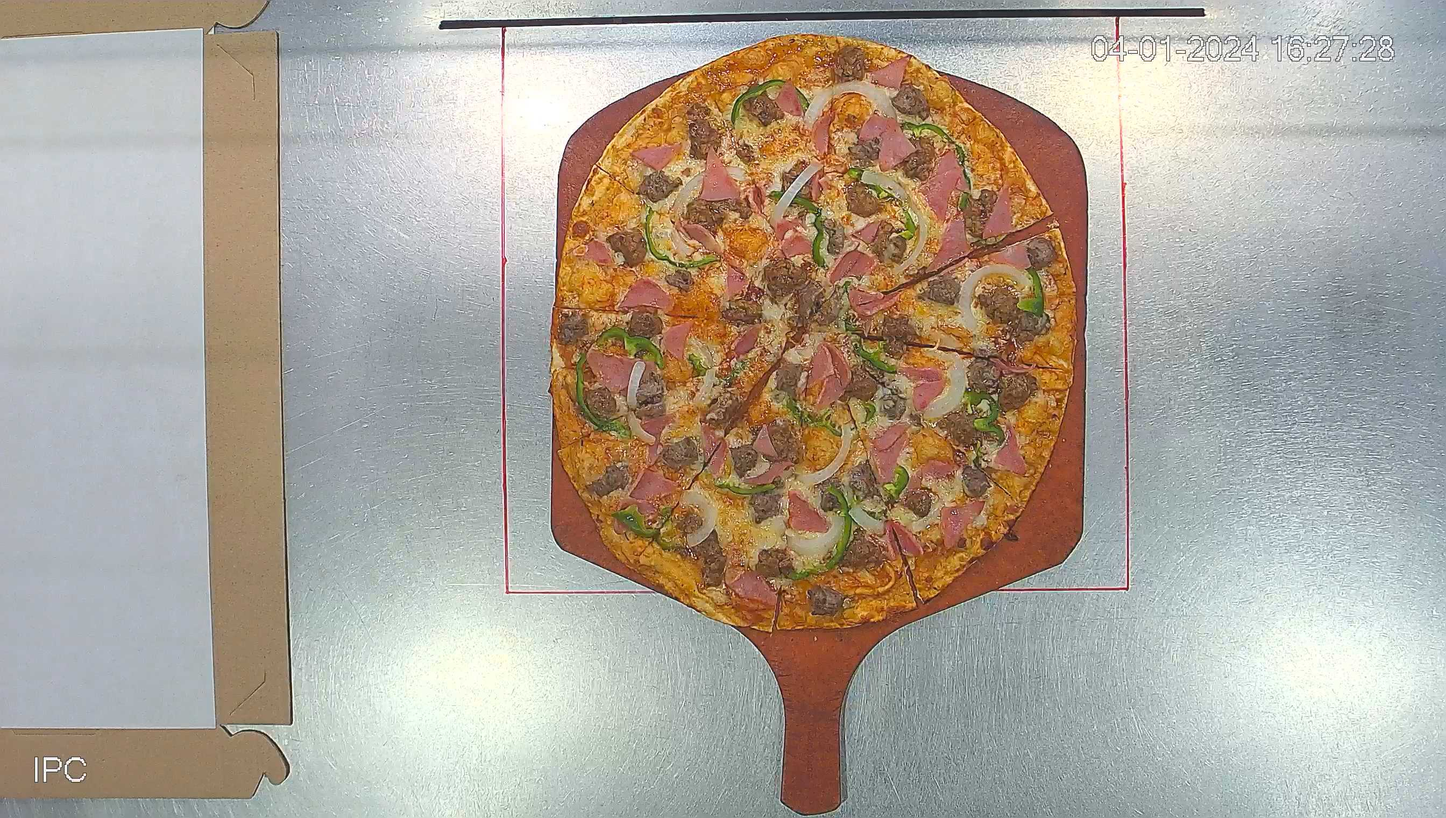hawaiian: (549, 30, 1078, 632)
